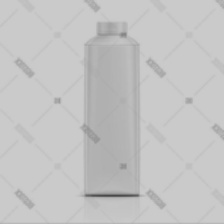carton: (78, 15, 143, 201)
